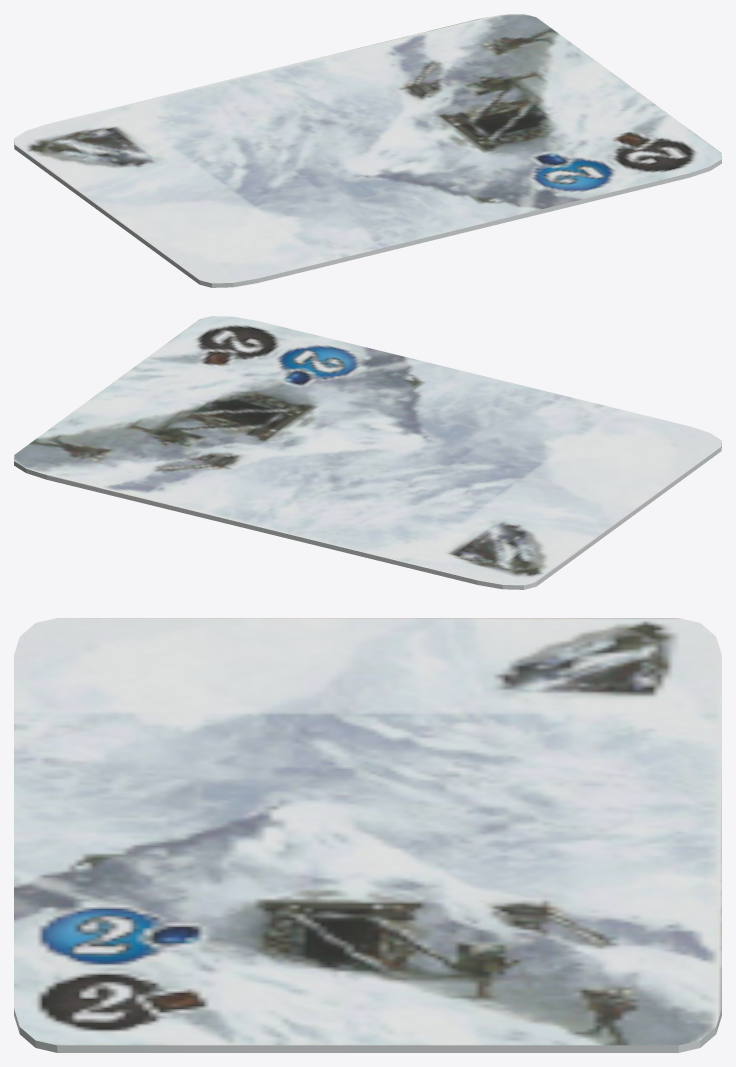
The picture shows the model from 3 angles, top to bottom: view 1: azimuth 30°, elevation 25°; view 2: azimuth 150°, elevation 25°; view 3: azimuth 270°, elevation 25°; orthographic projection. The views are drawn at different scales.
Parts seen in each view (by area): view 1: Card1; view 2: Card1; view 3: Card1.
Part boxes in pixels (<box>): Card1: <box>14,14,721,287</box>; Card1: <box>14,316,721,589</box>; Card1: <box>14,618,721,1052</box>.
Size of the model in its own units: 700 by 5.74 by 490.
